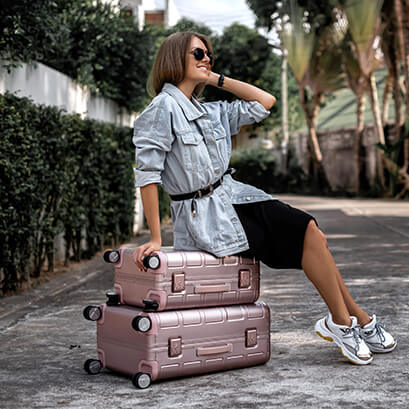luggage: (80, 302, 281, 384), (104, 239, 264, 306)
